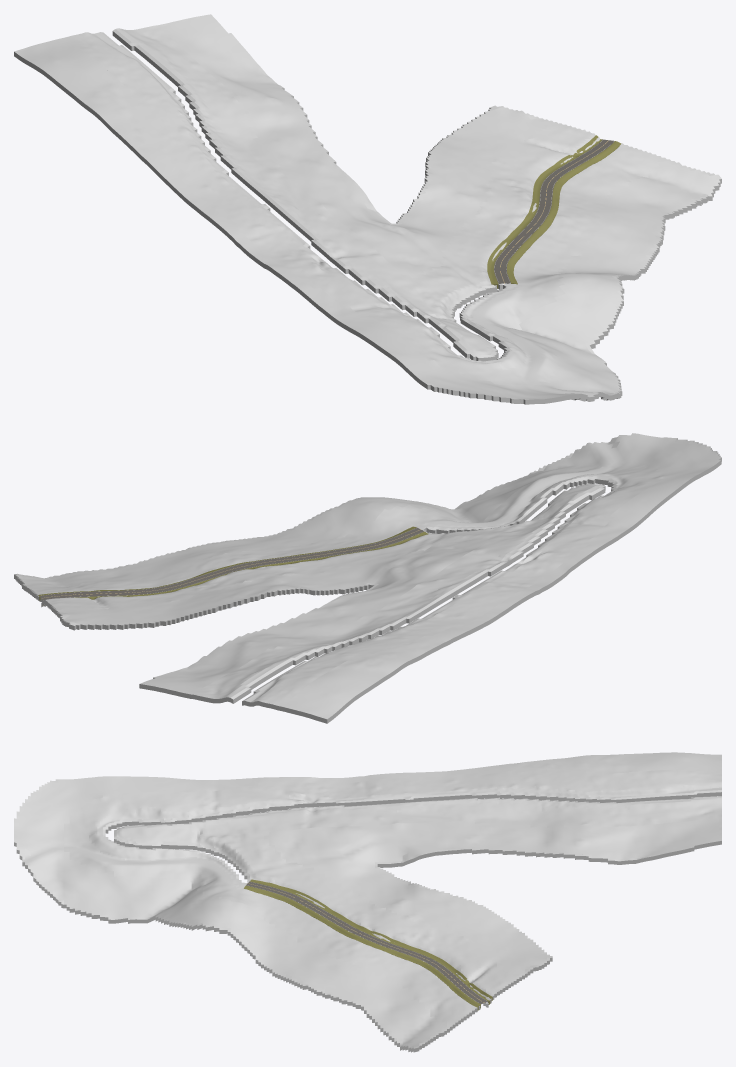
File: conz_148.glb
3 views of the same model, one above another, from view 1: azimuth 30°, elevation 25°; view 2: azimuth 150°, elevation 25°; view 3: azimuth 270°, elevation 25° (orthographic). The views are drawn at different scales.
Parts seen in each view (by area): view 1: terrain148, road148, verge148L, verge148R; view 2: terrain148, road148, verge148R, verge148L; view 3: terrain148, road148, verge148L, verge148R.
Boxes of the visible parts, x1,y1,x2,y2 form: terrain148: (14,14,721,404); road148: (494,139,614,283); verge148L: (507,141,621,284); verge148R: (487,135,602,288); terrain148: (14,433,721,723); road148: (40,527,424,600); verge148R: (43,531,428,605); verge148L: (38,526,416,600); terrain148: (14,752,721,1052); road148: (246,881,487,1004); verge148L: (244,885,480,1010); verge148R: (250,879,492,1004).
Size of the model in its own units: 346 by 83.04 by 510.
